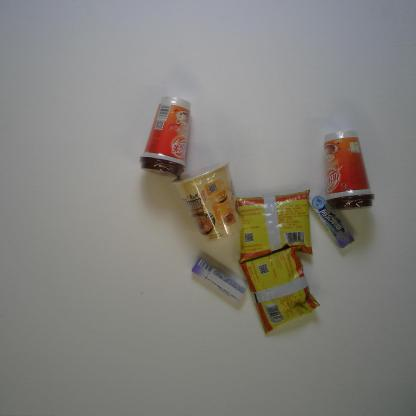Candy: (308, 191, 356, 249), (191, 256, 247, 303)
Instant Drink: (139, 95, 192, 178), (323, 129, 374, 211)
Instant Noodles: (171, 159, 242, 244)
Seasoner: (237, 245, 320, 334), (234, 189, 313, 263)
